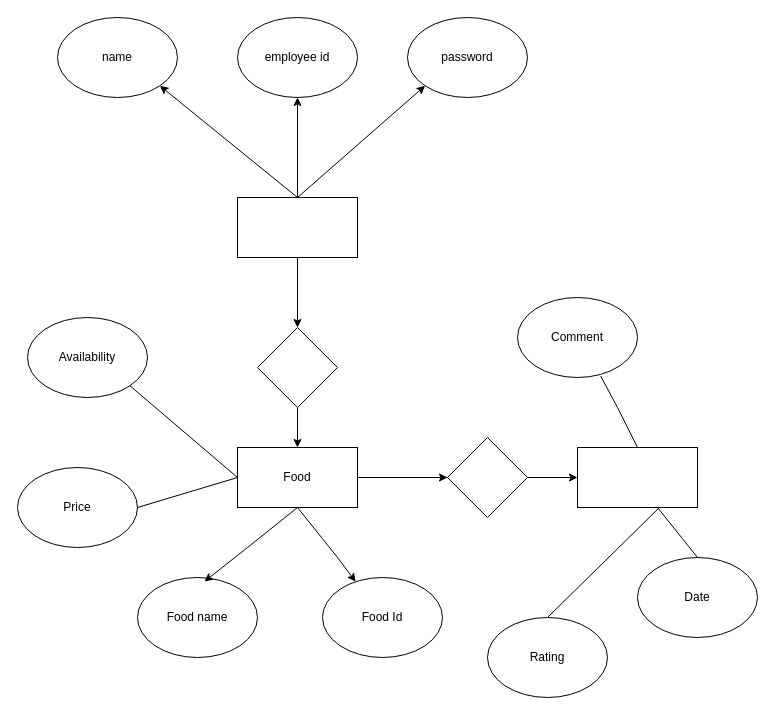
Image size: 775x715. Some labels were removed from this diagram. Each missing label, with the centre of its shape:
"Employee" goes at (297,227).
"Give feedback" goes at (297,367).
"Has" goes at (487,477).
"Quality" goes at (637,477).
